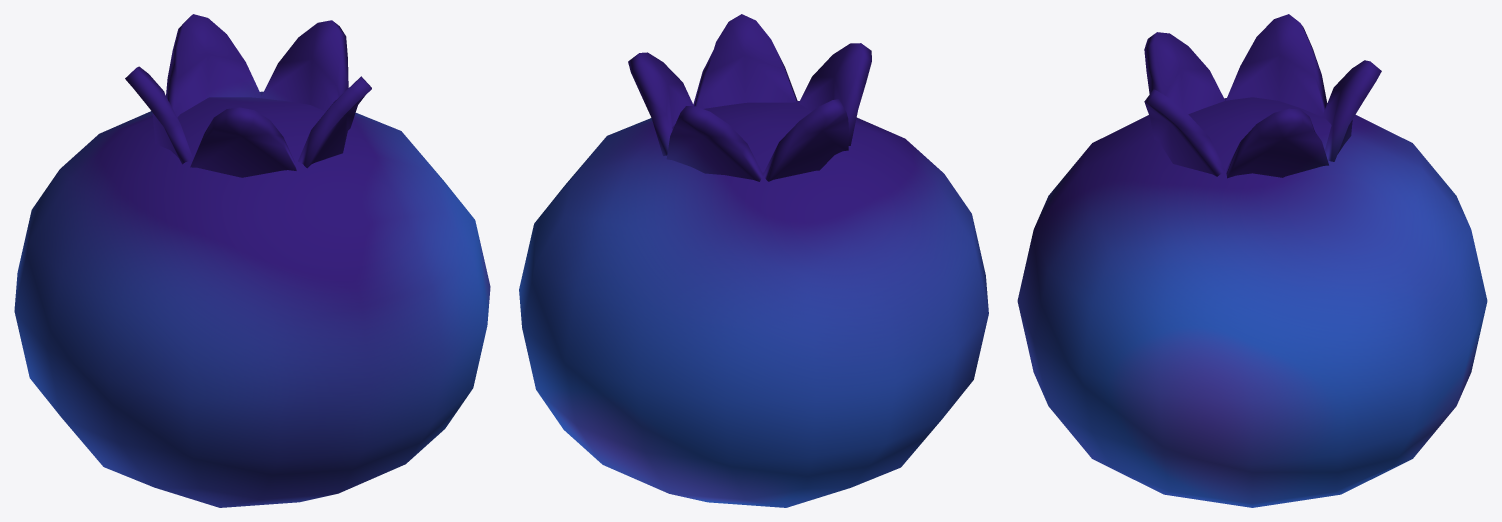
File: Blueberry.fbx
The picture shows the model from 3 angles, left to right: view 1: azimuth 30°, elevation 25°; view 2: azimuth 150°, elevation 25°; view 3: azimuth 270°, elevation 25°; orthographic projection.
Parts seen in each view (by area): view 1: Blueberry; view 2: Blueberry; view 3: Blueberry.
Boxes of the visible parts, x1=… form: Blueberry: x1=14, y1=14, x2=490, y2=507; Blueberry: x1=519, y1=14, x2=988, y2=507; Blueberry: x1=1017, y1=14, x2=1487, y2=507.
Size of the model in its own units: 0.0595 by 0.0595 by 0.0586.
1 material, 1 textured.
